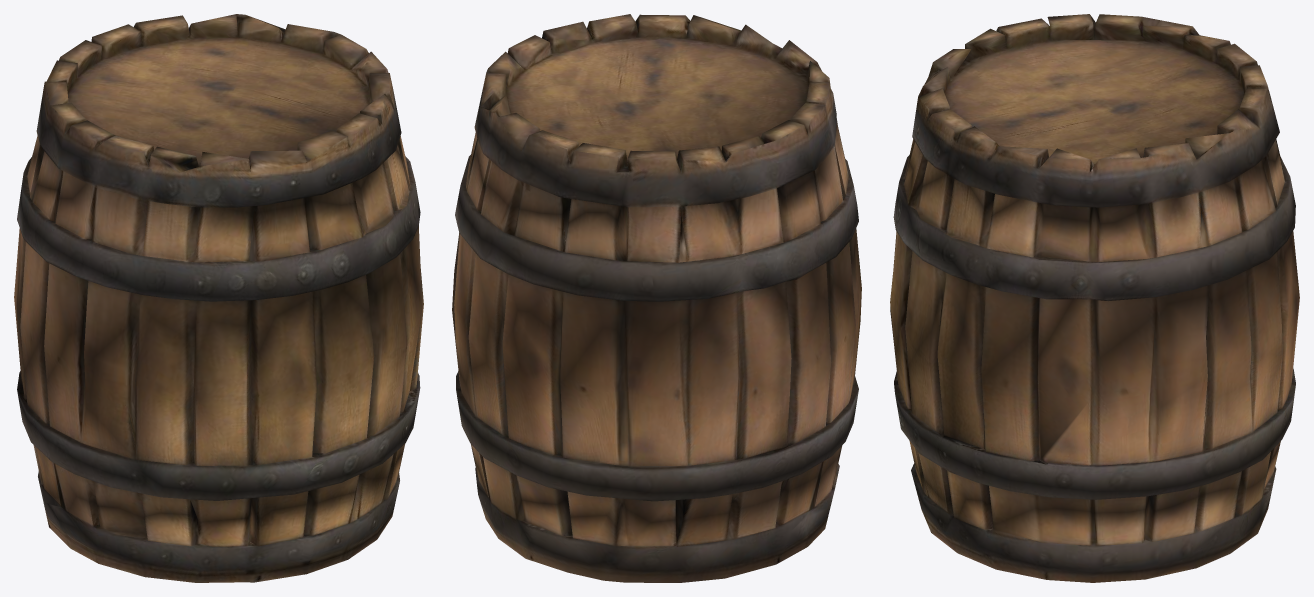
Rendered from barrel.glb.
3 renders of one model, left to right at view 1: azimuth 30°, elevation 25°; view 2: azimuth 150°, elevation 25°; view 3: azimuth 270°, elevation 25°, orthographic.
Bounding box in the file's own units: 1.75 × 2 × 1.75.
1 material, 1 textured.
